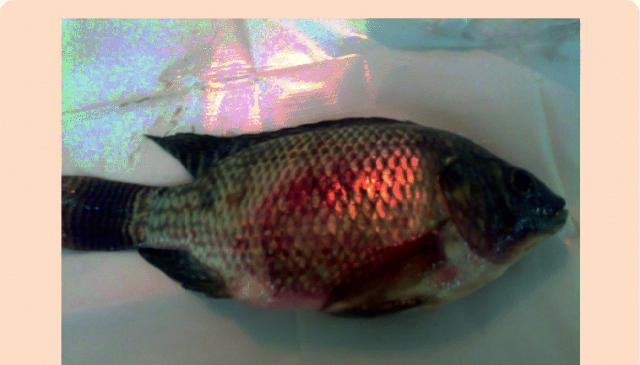Aeromonas Septicemia: (62, 117, 567, 316), (62, 117, 567, 315), (62, 118, 567, 316), (62, 117, 567, 313), (62, 118, 567, 314)
